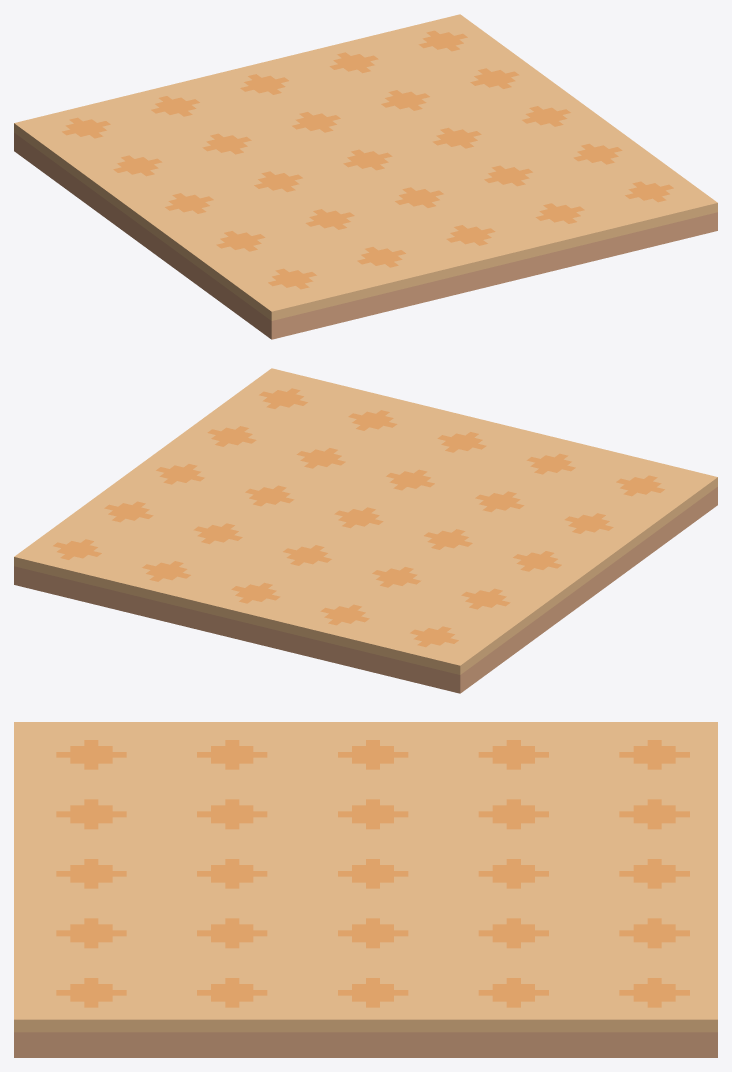
File: Kitchen_cabinets-26.obj
3 renders of one model, top to bottom at view 1: azimuth 30°, elevation 25°; view 2: azimuth 150°, elevation 25°; view 3: azimuth 270°, elevation 25°, orthographic. The views are drawn at different scales.
Bounding box in the file's own units: 5 × 0.3 × 5.
Materials: 1 (1 with a texture image).
